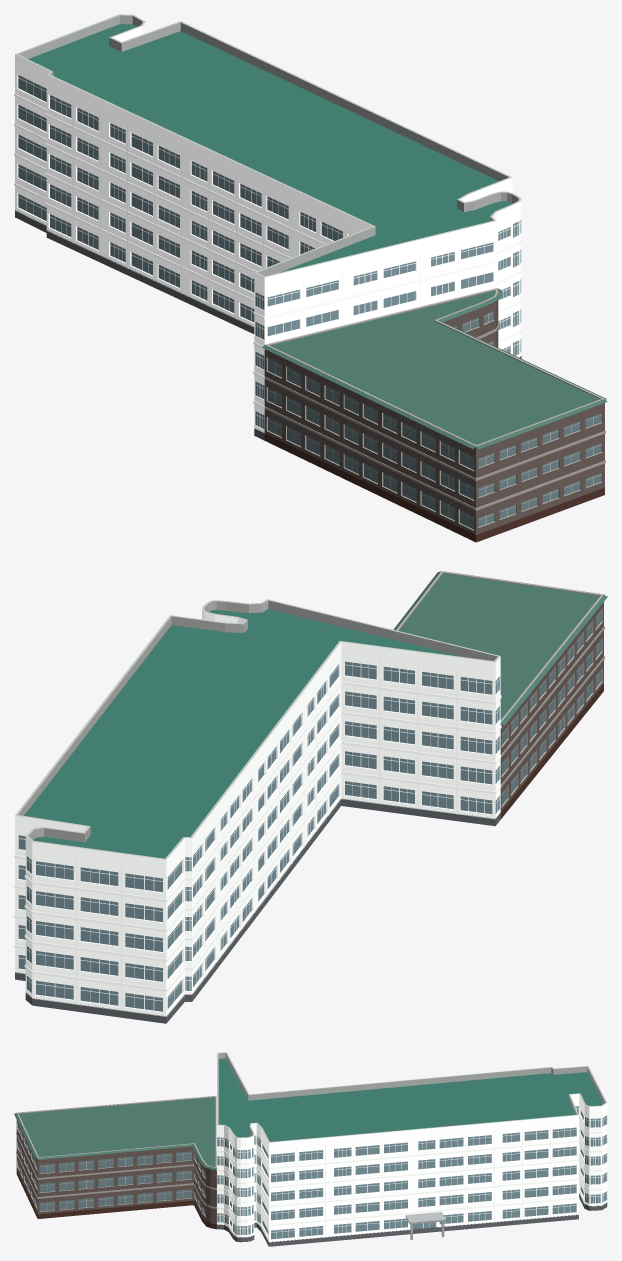
3 views of the same model, one above another, from view 1: azimuth 30°, elevation 25°; view 2: azimuth 150°, elevation 25°; view 3: azimuth 270°, elevation 25° (orthographic). The views are drawn at different scales.
Parts seen in each view (by area): view 1: wing1__wall-plaster, wing1__roof, wing1south__roof, wing1__glass, wing1south__wall-plaster, wing1__trim-concrete, wing1south__glass, wing1__parapet-concrete, wing1south__trim-concrete, wing1__frame, wing1south__base-stone, wing1__base-stone (+1 smaller); view 2: wing1__wall-plaster, wing1__roof, wing1__glass, wing1__trim-concrete, wing1south__roof, wing1__parapet-concrete, wing1__frame, wing1south__wall-plaster, wing1__base-stone, wing1south__trim-concrete, wing1south__glass, wing1south__base-stone; view 3: wing1__wall-plaster, wing1__roof, wing1__glass, wing1south__roof, wing1__trim-concrete, wing1south__wall-plaster, wing1south__glass, wing1__parapet-concrete, wing1__frame, wing1south__trim-concrete, wing1__base-stone, wing1south__base-stone (+2 smaller).
Part boxes in pixels (left/top/right/bottom): wing1__wall-plaster: left=15, top=22, right=521, bottom=432; wing1__roof: left=28, top=24, right=512, bottom=272; wing1south__roof: left=262, top=288, right=607, bottom=449; wing1__glass: left=18, top=75, right=520, bottom=428; wing1south__wall-plaster: left=264, top=294, right=604, bottom=534; wing1__trim-concrete: left=14, top=74, right=522, bottom=429; wing1south__glass: left=268, top=311, right=601, bottom=529; wing1__parapet-concrete: left=15, top=14, right=521, bottom=277; wing1south__trim-concrete: left=264, top=288, right=605, bottom=530; wing1__frame: left=18, top=77, right=520, bottom=428; wing1south__base-stone: left=264, top=433, right=604, bottom=542; wing1__base-stone: left=15, top=210, right=521, bottom=440; wing1__wall-plaster: left=15, top=610, right=500, bottom=1016; wing1__roof: left=24, top=609, right=464, bottom=858; wing1__glass: left=18, top=661, right=499, bottom=1011; wing1__trim-concrete: left=14, top=658, right=501, bottom=1016; wing1south__roof: left=393, top=571, right=607, bottom=725; wing1__parapet-concrete: left=15, top=599, right=500, bottom=859; wing1__frame: left=18, top=663, right=499, bottom=1010; wing1south__wall-plaster: left=500, top=595, right=603, bottom=811; wing1__base-stone: left=15, top=798, right=500, bottom=1023; wing1south__trim-concrete: left=396, top=571, right=604, bottom=807; wing1south__glass: left=501, top=609, right=601, bottom=805; wing1south__base-stone: left=500, top=684, right=603, bottom=819; wing1__wall-plaster: left=217, top=1094, right=607, bottom=1241; wing1__roof: left=218, top=1058, right=603, bottom=1141; wing1__glass: left=217, top=1106, right=606, bottom=1239; wing1south__roof: left=14, top=1095, right=216, bottom=1169; wing1__trim-concrete: left=216, top=1078, right=607, bottom=1242; wing1south__wall-plaster: left=16, top=1116, right=216, bottom=1224; wing1south__glass: left=18, top=1124, right=205, bottom=1215; wing1__parapet-concrete: left=217, top=1052, right=607, bottom=1142; wing1__frame: left=217, top=1106, right=606, bottom=1238; wing1south__trim-concrete: left=16, top=1096, right=217, bottom=1216; wing1__base-stone: left=217, top=1193, right=607, bottom=1246; wing1south__base-stone: left=16, top=1170, right=216, bottom=1229.
Bounding box in the file's own units: 37.07 × 19.75 × 102.
